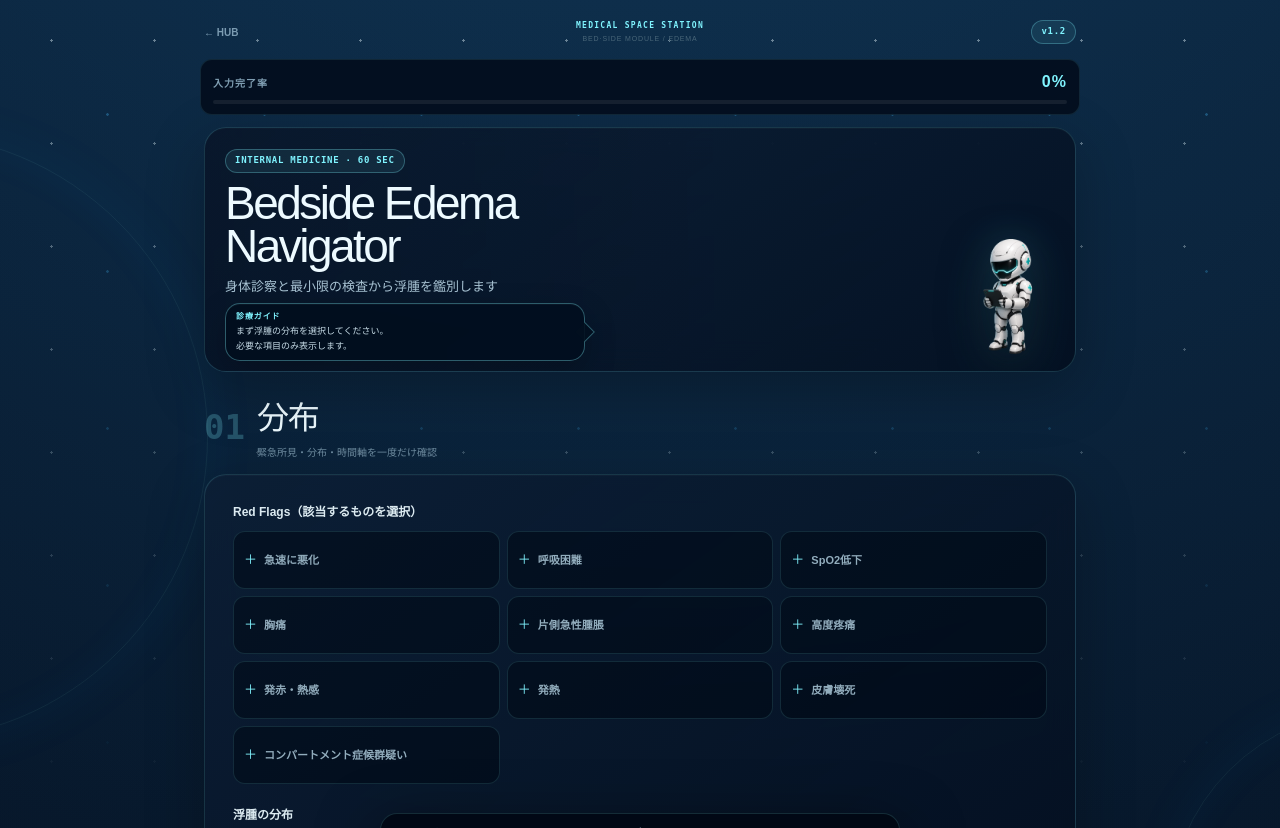
Test: Bedside Edema Navigator › shows a character warning when a red flag is selected
The width and height of the screenshot is (1280, 828).
Click the button named "＋急速に悪化". click: (292, 560)
box: x1=233 y1=531 x2=500 y2=589
(page scrolled)
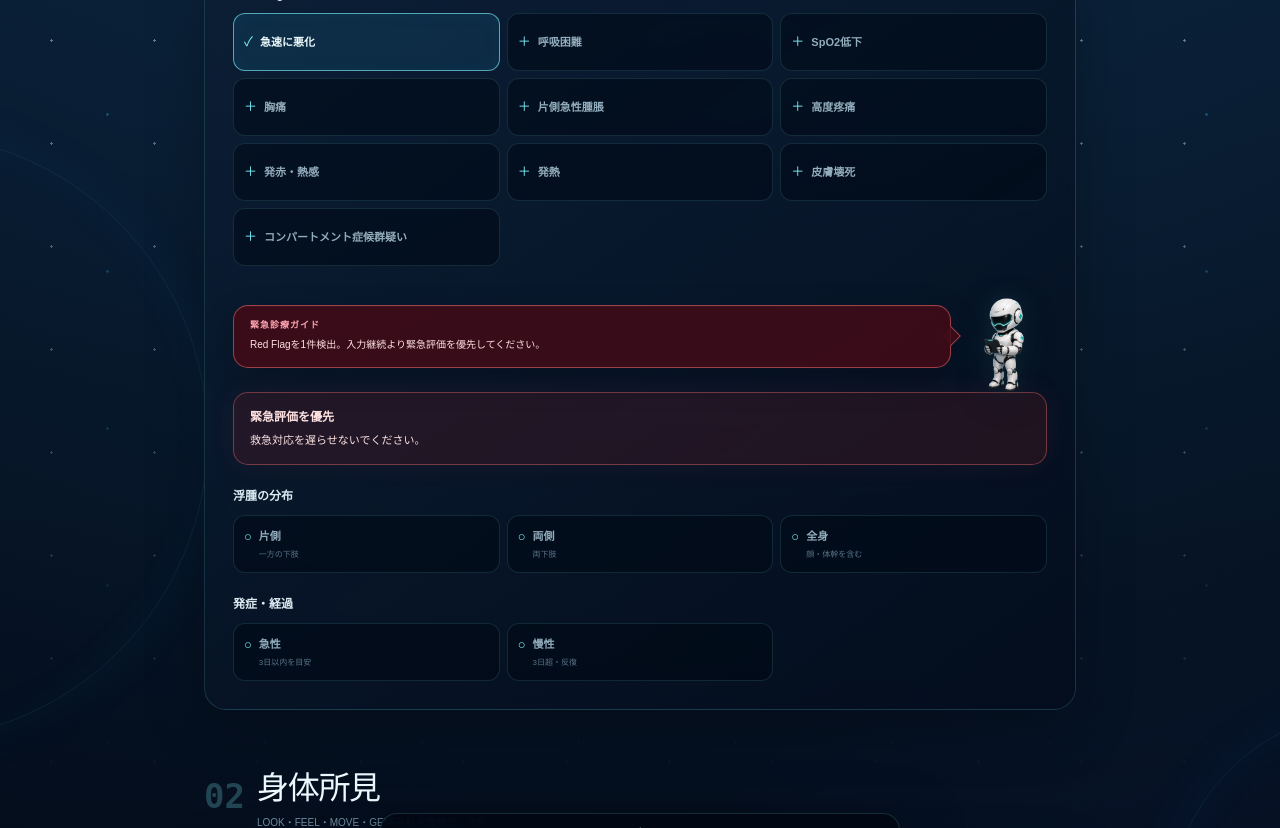
Check: the text "Red Flagを1件検出。入力継続より緊急評価を優先してください。" is shown, box x1=250 y1=339 x2=545 y2=350
Check: the text "救急対応を遅らせないでください。" is shown, box x1=250 y1=434 x2=426 y2=446
